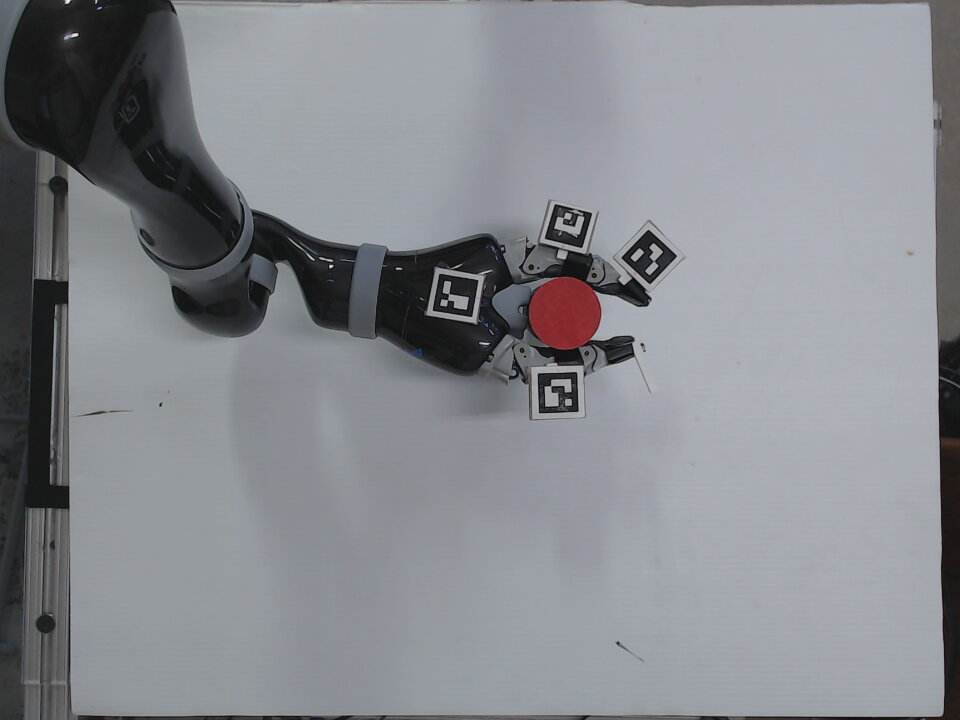cylinder: (525, 275, 604, 352)
